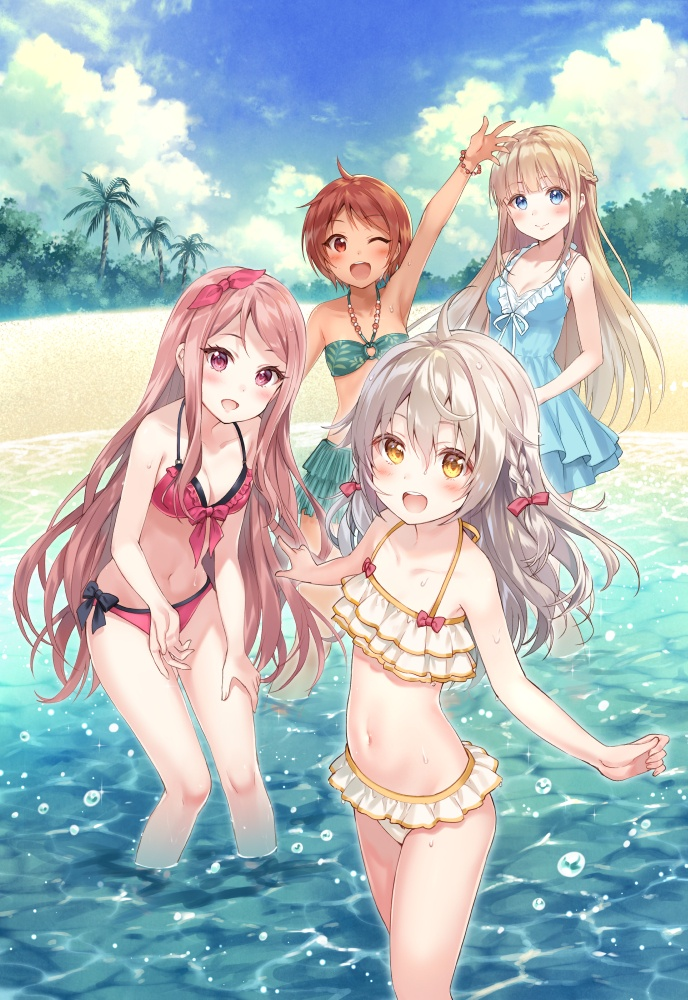纸片人正脸: (339, 315, 547, 535), (157, 262, 307, 433), (471, 120, 602, 252), (296, 158, 412, 296)
